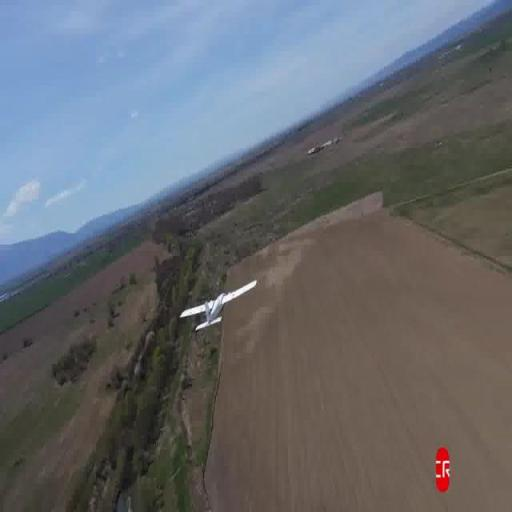uav: (177, 277, 263, 333)
